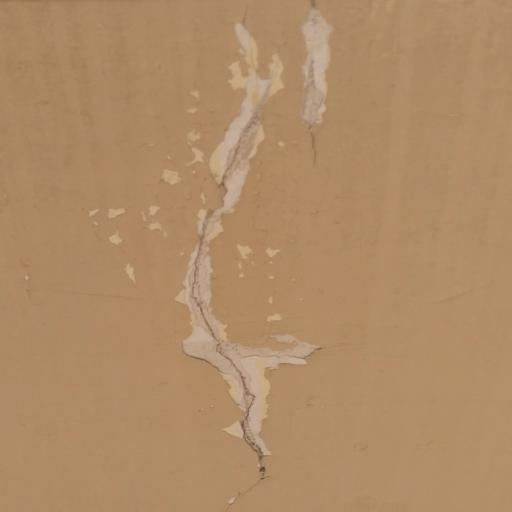peeling: (93, 9, 357, 496)
